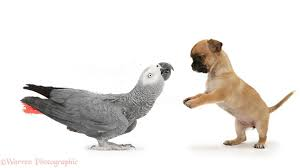chihuahua: (185, 38, 296, 150)
